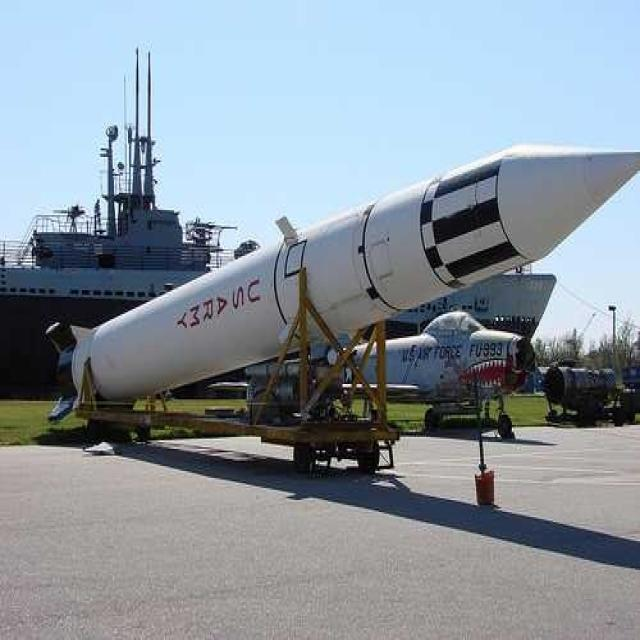missile: (46, 141, 638, 437)
